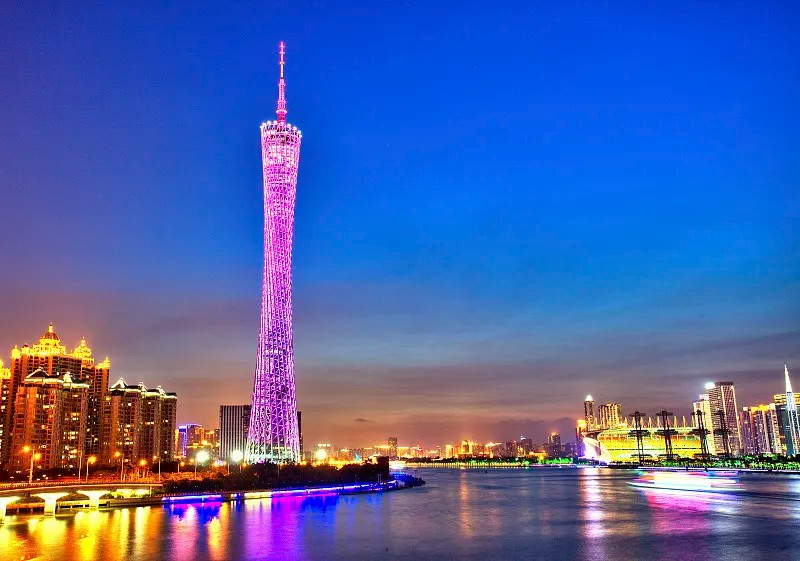Canton: (242, 38, 304, 465)
